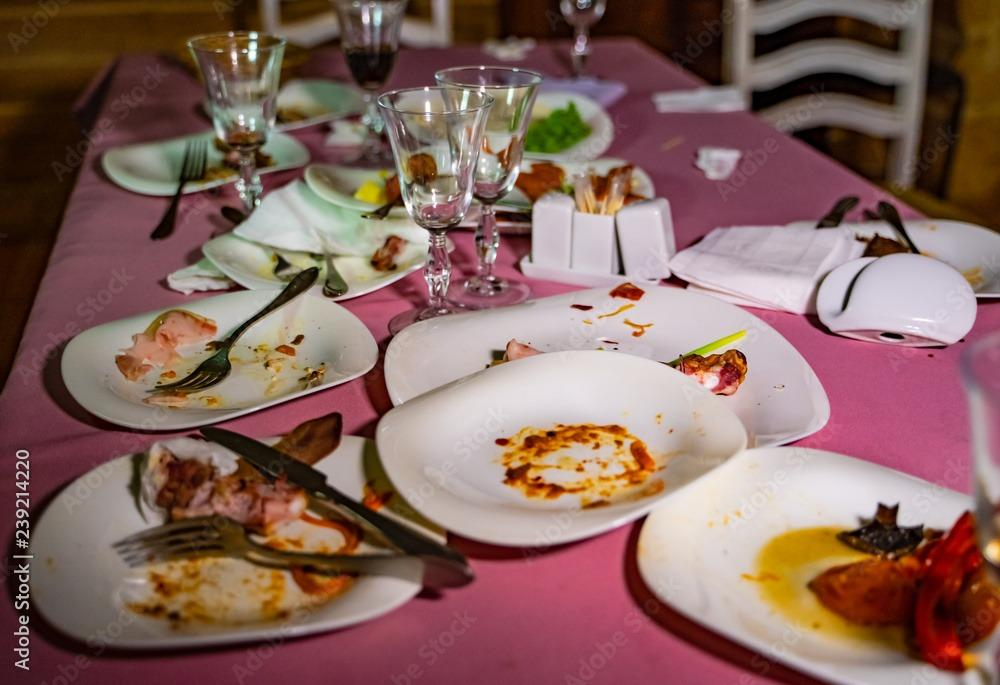Messy Table: (8, 13, 1000, 685)
